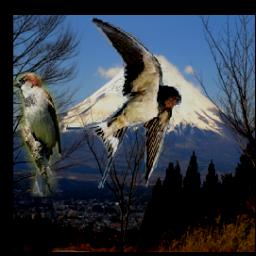Sparrow: (14, 72, 62, 197)
Swallow: (66, 18, 181, 189)
